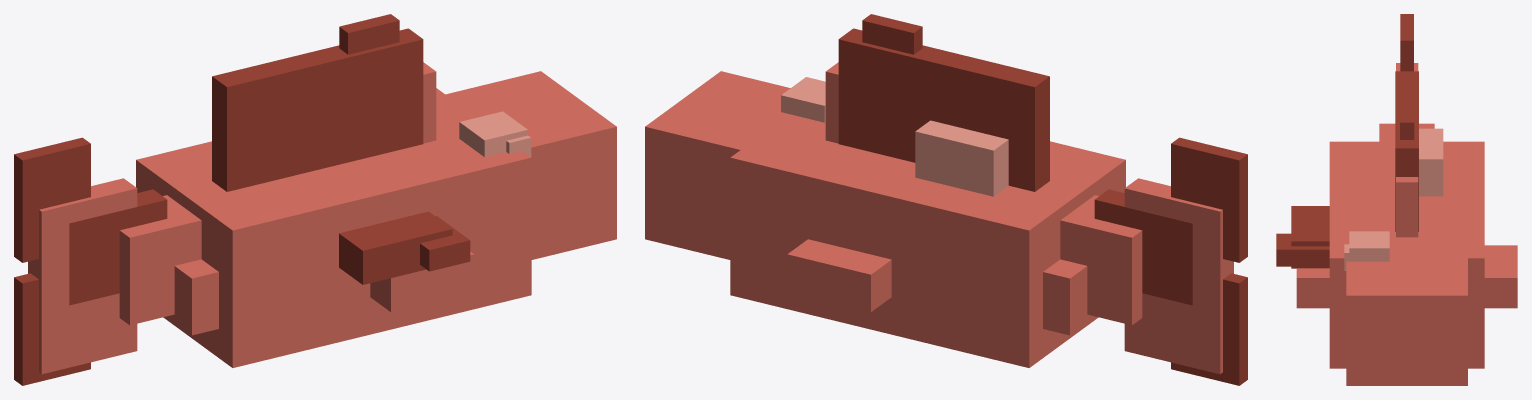
File: fish_reef_hawkfish.glb
The picture shows the model from 3 angles, left to right: view 1: azimuth 30°, elevation 25°; view 2: azimuth 150°, elevation 25°; view 3: azimuth 270°, elevation 25°; orthographic projection. The views are drawn at different scales.
Parts seen in each view (by area): view 1: FishArt_body, FishArt_dorsal, FishArt_tail, FishArt_pectoral, FishArt_eye; view 2: FishArt_body, FishArt_dorsal, FishArt_tail, FishArt_specialty, FishArt_eye; view 3: FishArt_body, FishArt_pectoral, FishArt_dorsal, FishArt_specialty, FishArt_eye, FishArt_tail.
Part boxes in pixels (bbox=[...]): FishArt_body: bbox=[28, 62, 616, 374]; FishArt_dorsal: bbox=[212, 14, 423, 191]; FishArt_tail: bbox=[14, 137, 167, 385]; FishArt_pectoral: bbox=[339, 211, 470, 284]; FishArt_eye: bbox=[459, 111, 531, 156]; FishArt_body: bbox=[645, 62, 1233, 374]; FishArt_dorsal: bbox=[838, 14, 1049, 191]; FishArt_tail: bbox=[1094, 137, 1247, 385]; FishArt_specialty: bbox=[915, 120, 1008, 196]; FishArt_eye: bbox=[781, 77, 825, 122]; FishArt_body: bbox=[1296, 63, 1517, 385]; FishArt_pectoral: bbox=[1276, 206, 1329, 268]; FishArt_dorsal: bbox=[1395, 71, 1418, 231]; FishArt_specialty: bbox=[1419, 128, 1443, 196]; FishArt_eye: bbox=[1344, 231, 1389, 270]; FishArt_tail: bbox=[1400, 14, 1413, 71].
Size of the model in its own units: 0.3091 by 0.1442 by 0.1439.
